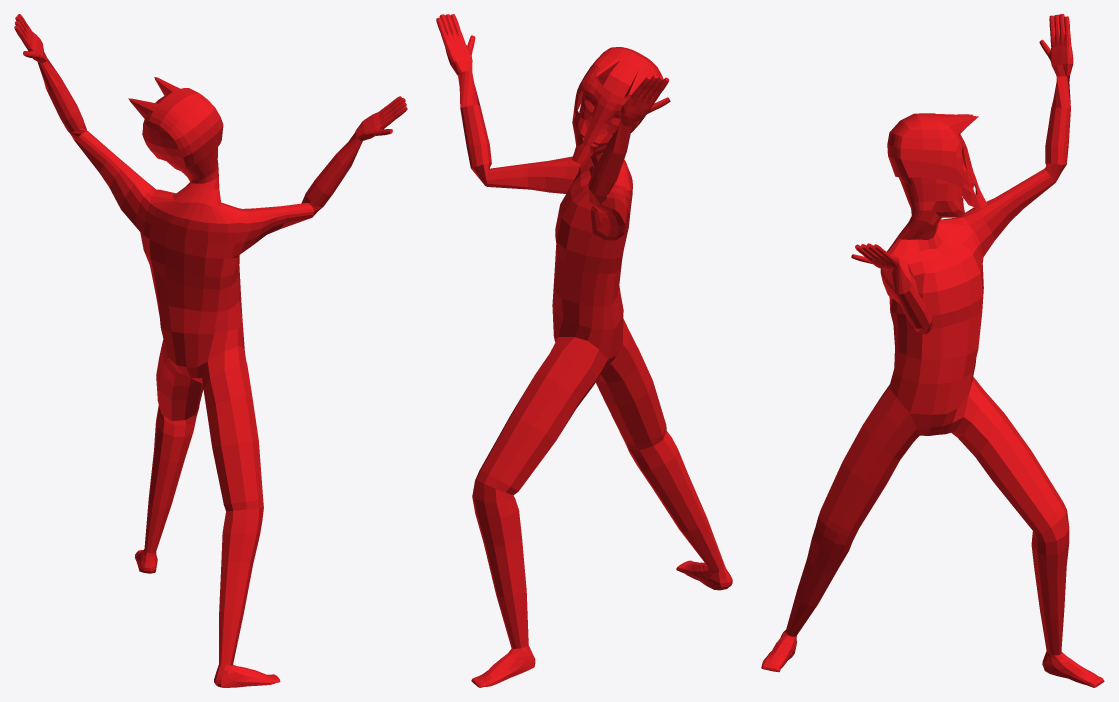
Rendered from activaAlarma_000194.obj.
3 views of the same model, side by side, from view 1: azimuth 30°, elevation 25°; view 2: azimuth 150°, elevation 25°; view 3: azimuth 270°, elevation 25° (orthographic). The views are drawn at different scales.
Visible parts, largest first — view 1: Plane.002_Plane.001; view 2: Plane.002_Plane.001; view 3: Plane.002_Plane.001.
Part boxes in pixels (x1,y1,x2,y2): Plane.002_Plane.001: (14,14,407,687); Plane.002_Plane.001: (436,14,732,687); Plane.002_Plane.001: (761,14,1104,687).
Size of the model in its own units: 3.93 by 7.36 by 3.8.
